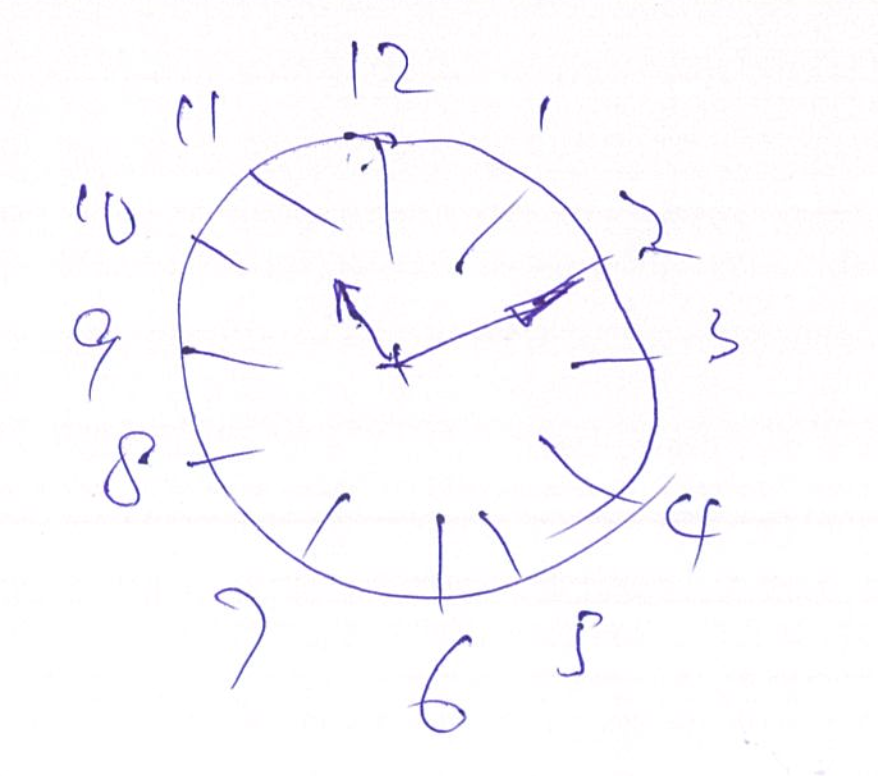1: (535, 90, 558, 135)
10: (70, 179, 138, 251)
11: (172, 92, 225, 151)
12: (345, 35, 435, 105)
2: (609, 187, 703, 264)
3: (696, 305, 741, 363)
4: (660, 494, 735, 568)
5: (557, 600, 605, 680)
6: (414, 623, 472, 735)
7: (209, 584, 269, 693)
8: (102, 420, 156, 510)
9: (70, 299, 119, 400)
contour: (172, 129, 664, 603)
hand: (324, 278, 586, 372)
top_left_arrow: (329, 277, 388, 358)
top_right_arrow: (401, 276, 579, 370)
